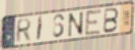6: (53, 14, 66, 39)
B: (102, 7, 120, 35)
E: (84, 9, 103, 37)
I: (35, 15, 44, 43)
N: (68, 12, 84, 39)
R: (15, 17, 33, 44)
